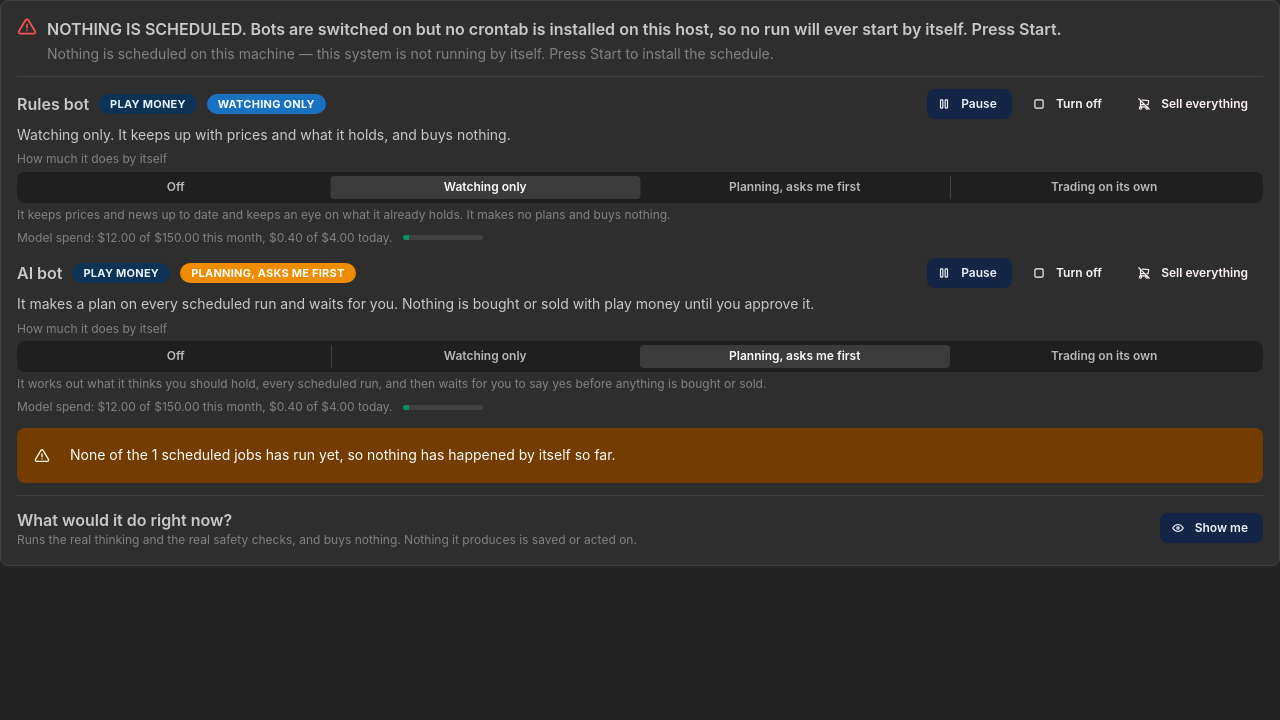
Test: what would it do right now › says plainly when it would decline to trade
Click the button with test id "preview-run": (1212,528) [1160,514,1263,544]
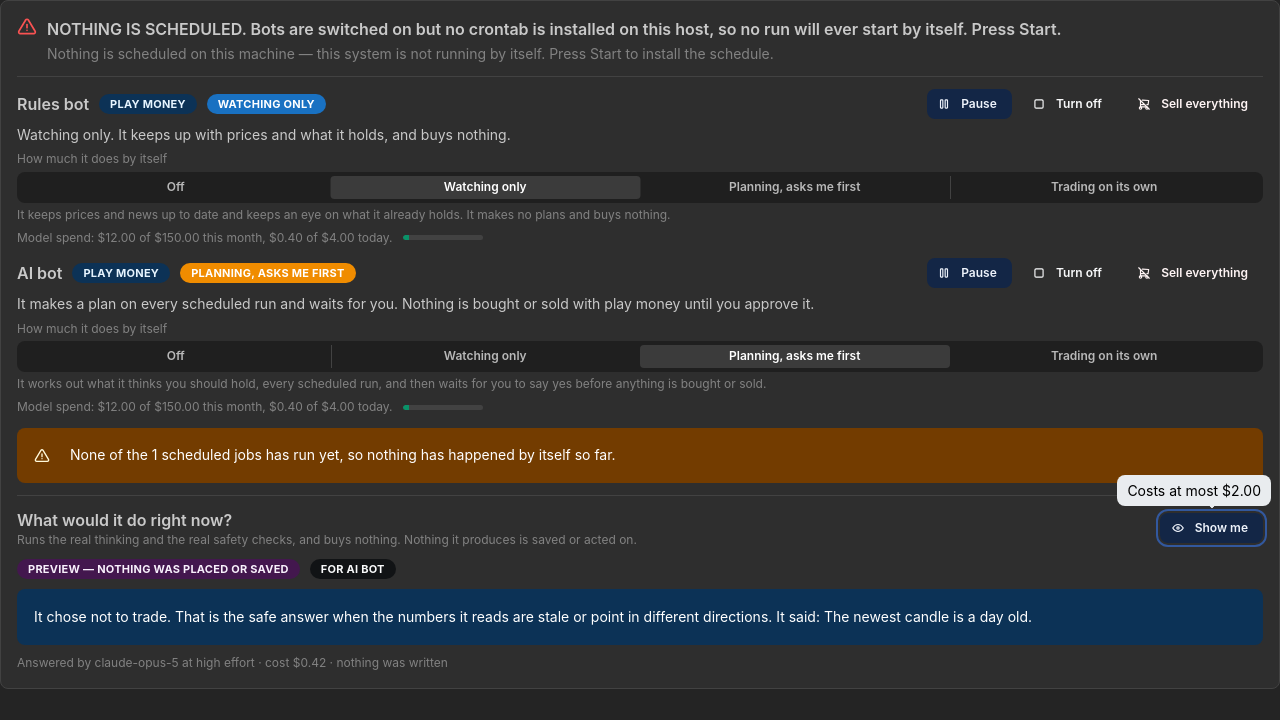
Expected: the message with test id "preview-abstain" shows "chose not to trade", [34,608,772,625]
